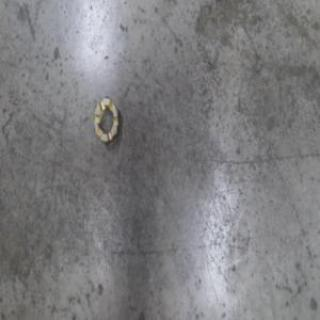Nuttrack_idkeyframe: (92, 94, 121, 146)
